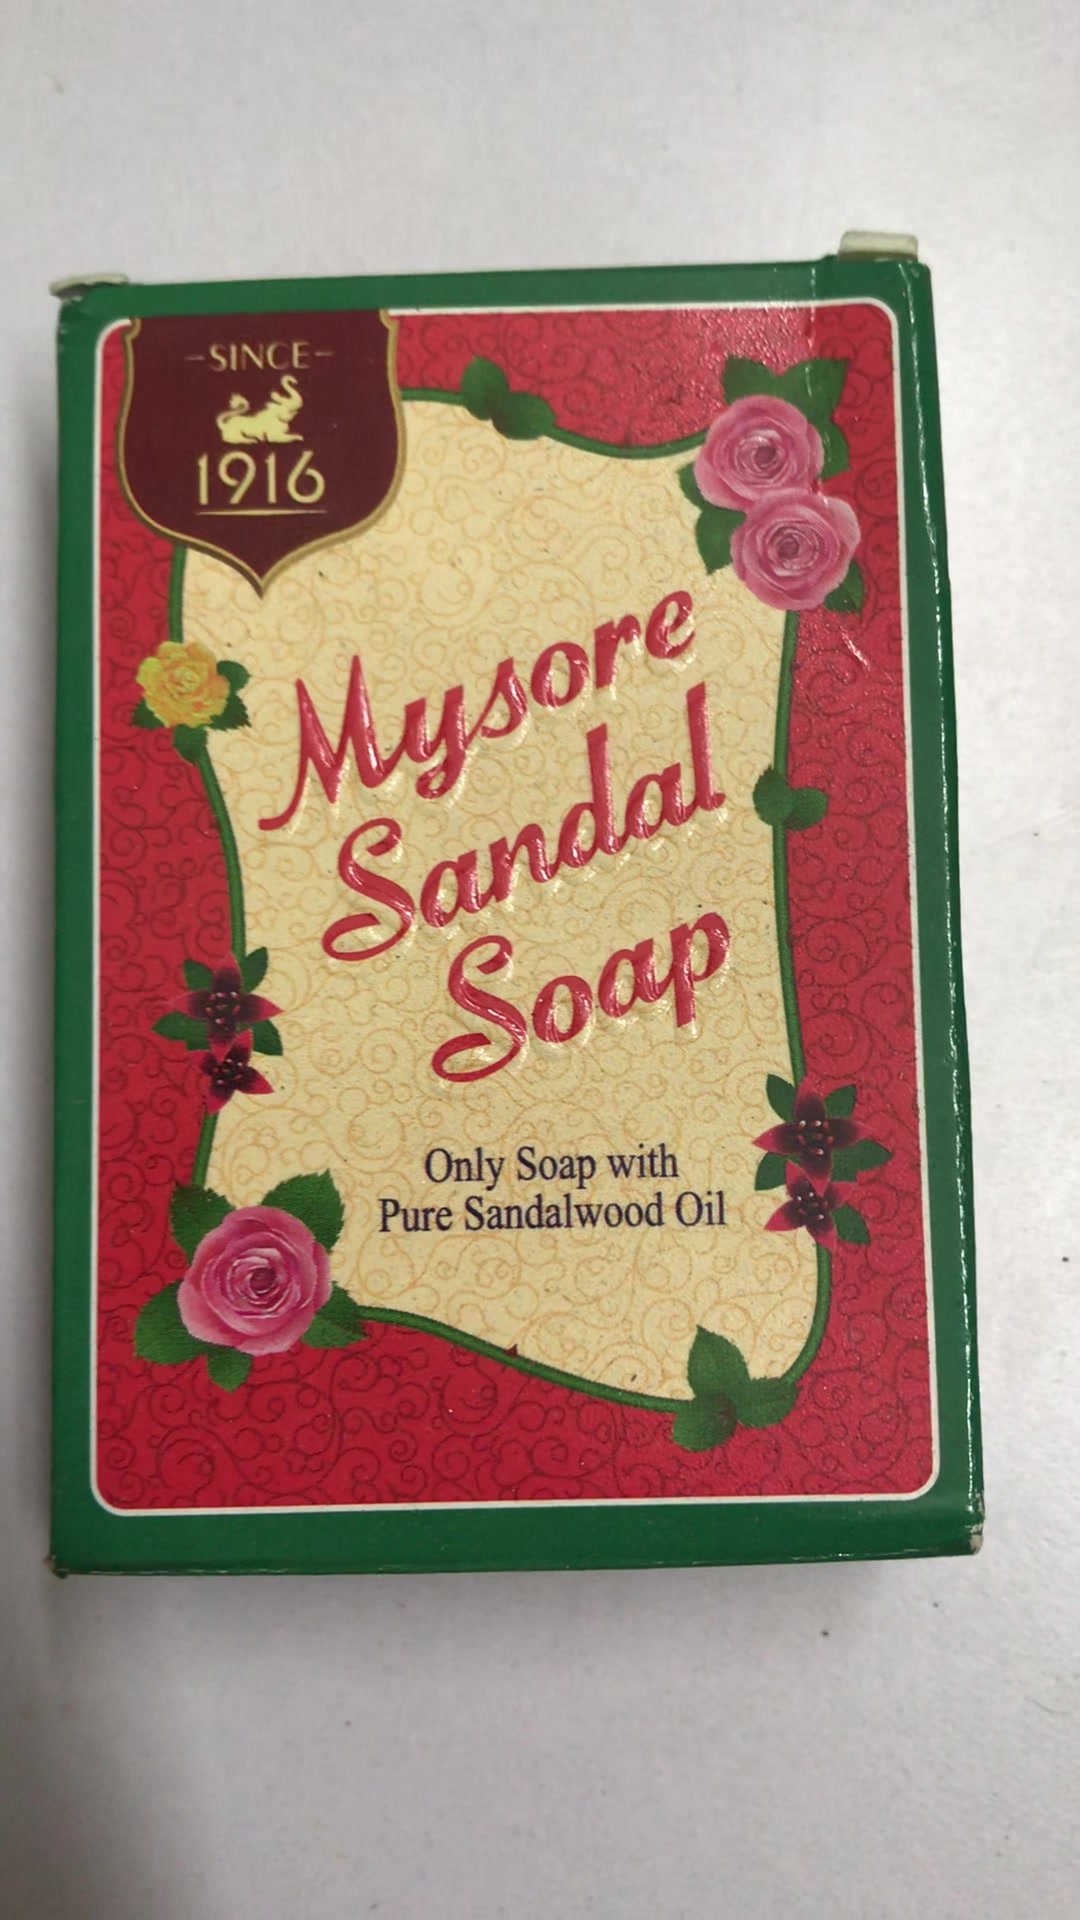mysore sandal soap: (69, 269, 975, 1557)
